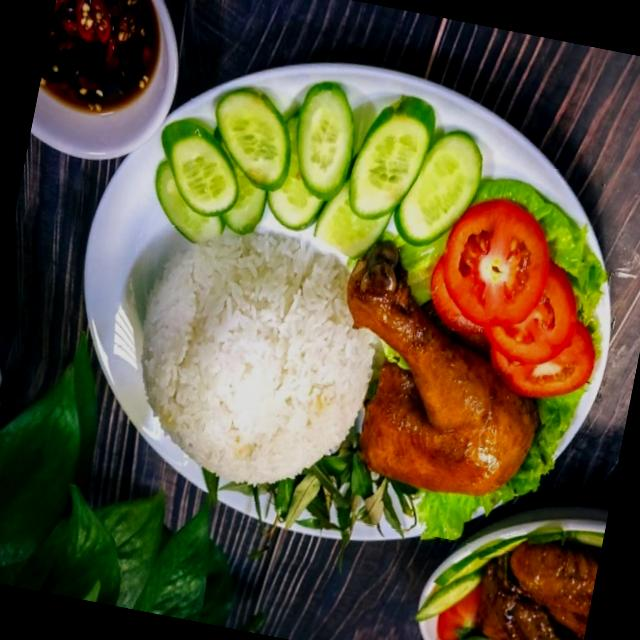ca chua: (444, 200, 550, 323), (485, 264, 577, 366), (492, 322, 596, 397), (431, 257, 484, 338)
com: (142, 234, 377, 484)
dua leo: (155, 84, 482, 258)
ga chien: (348, 248, 539, 495)
nuoc tuong: (32, 0, 177, 157)
